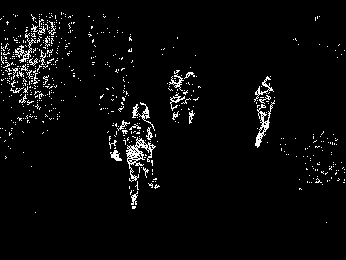person: (121, 102, 160, 212), (254, 72, 277, 152), (167, 68, 185, 124), (183, 69, 201, 125)
